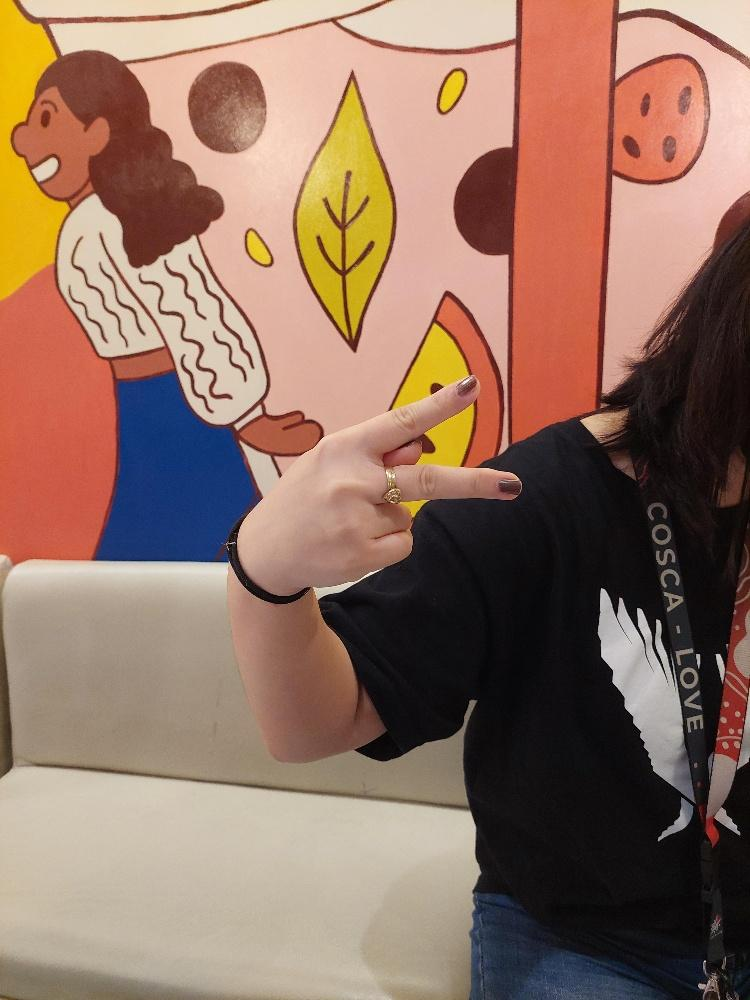k: (247, 371, 524, 588)
